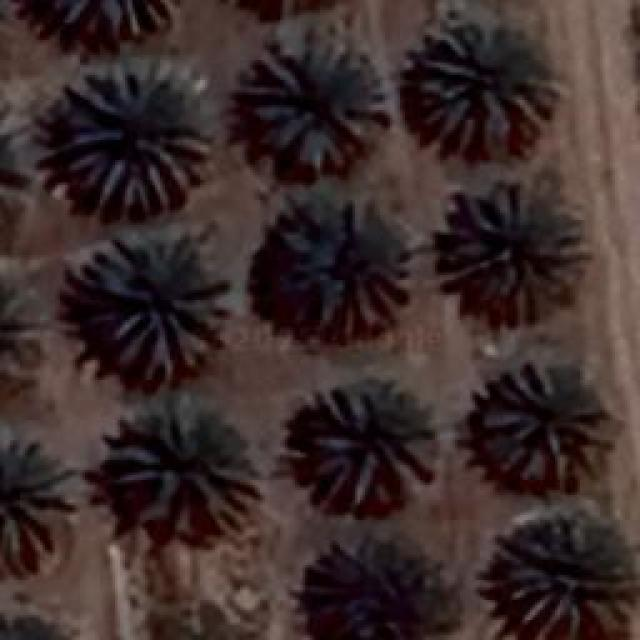PalmTree: (112, 19, 389, 590), (60, 62, 210, 216), (80, 230, 230, 382), (110, 398, 262, 538), (405, 18, 553, 158), (242, 35, 388, 170), (437, 180, 575, 322), (275, 195, 410, 340), (298, 380, 438, 512), (472, 360, 612, 485), (500, 510, 635, 630), (0, 430, 78, 560), (0, 266, 37, 394), (0, 94, 26, 242), (0, 97, 18, 238), (0, 611, 79, 640)
